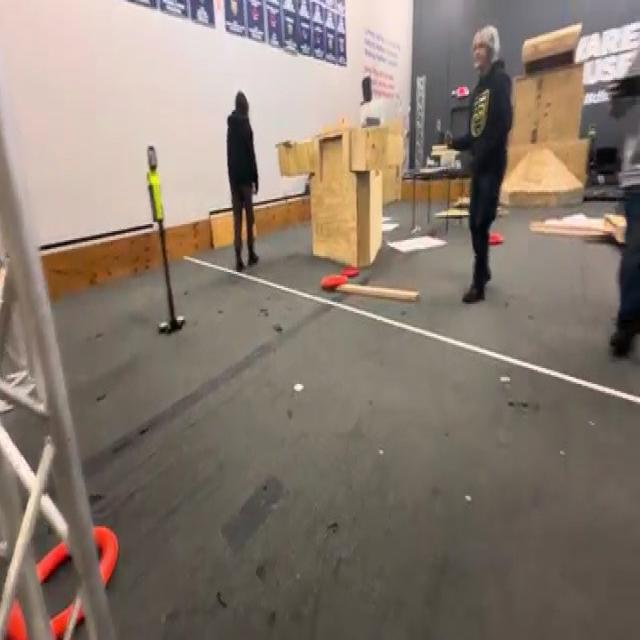note: (0, 512, 122, 640), (319, 272, 348, 292), (488, 232, 505, 249)
